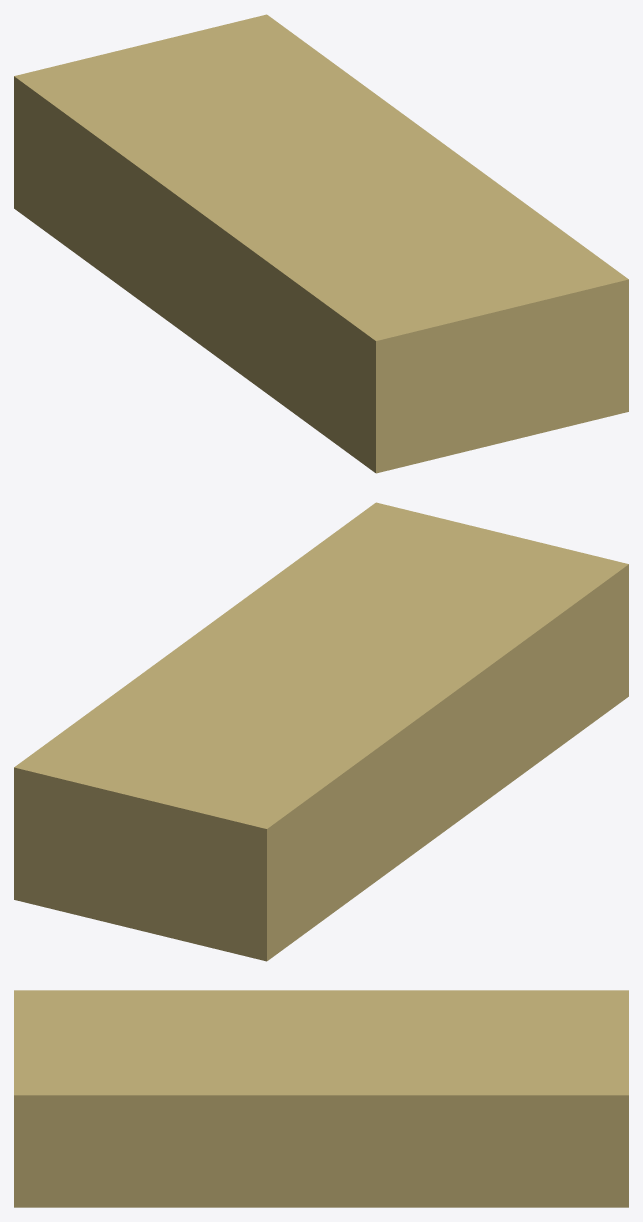
The picture shows the model from 3 angles, top to bottom: view 1: azimuth 30°, elevation 25°; view 2: azimuth 150°, elevation 25°; view 3: azimuth 270°, elevation 25°; orthographic projection. The views are drawn at different scales.
Parts seen in each view (by area): view 1: RUN-022-S02-NOG-04; view 2: RUN-022-S02-NOG-04; view 3: RUN-022-S02-NOG-04.
Boxes of the visible parts, x1,y1,x2,y2 form: RUN-022-S02-NOG-04: (14, 14, 628, 473); RUN-022-S02-NOG-04: (14, 502, 628, 961); RUN-022-S02-NOG-04: (14, 990, 628, 1207).
Size of the model in its own units: 0.09 by 0.045 by 0.2231.
